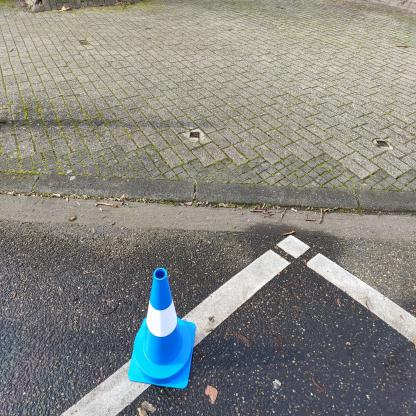Cones_small_blue: (120, 256, 196, 397)
